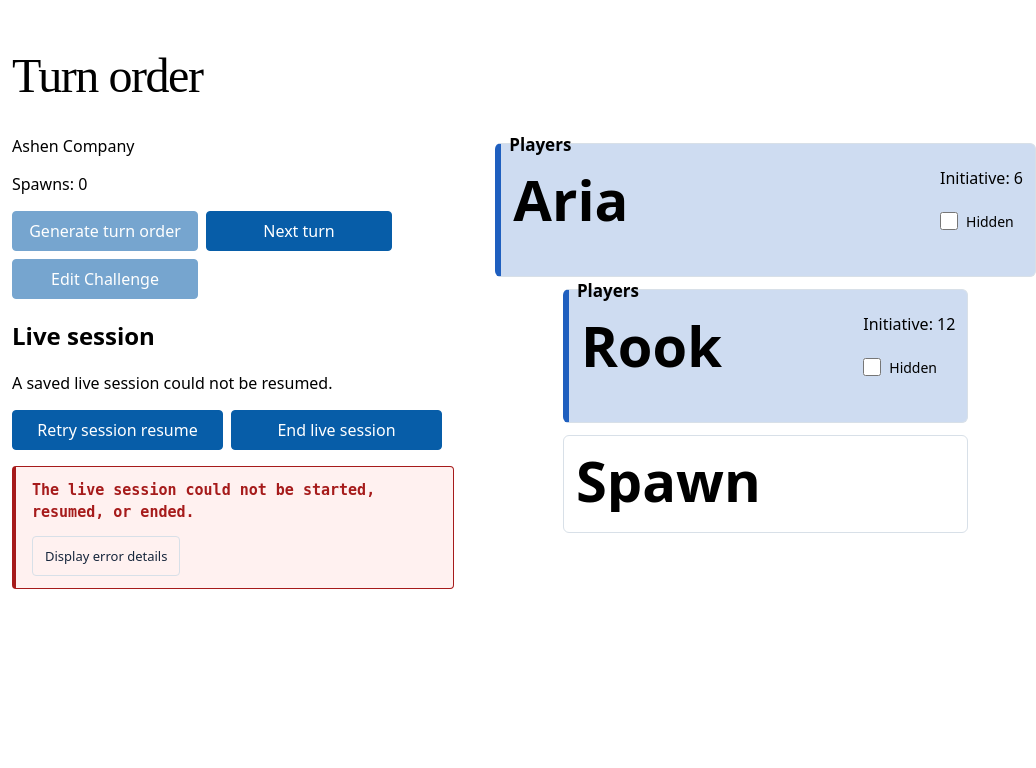
Scenario: turn-order run route › keeps reconnect details after a temporary resume failure and retries
Click the button "Retry session resume": [118, 430] box [12,410,223,450]
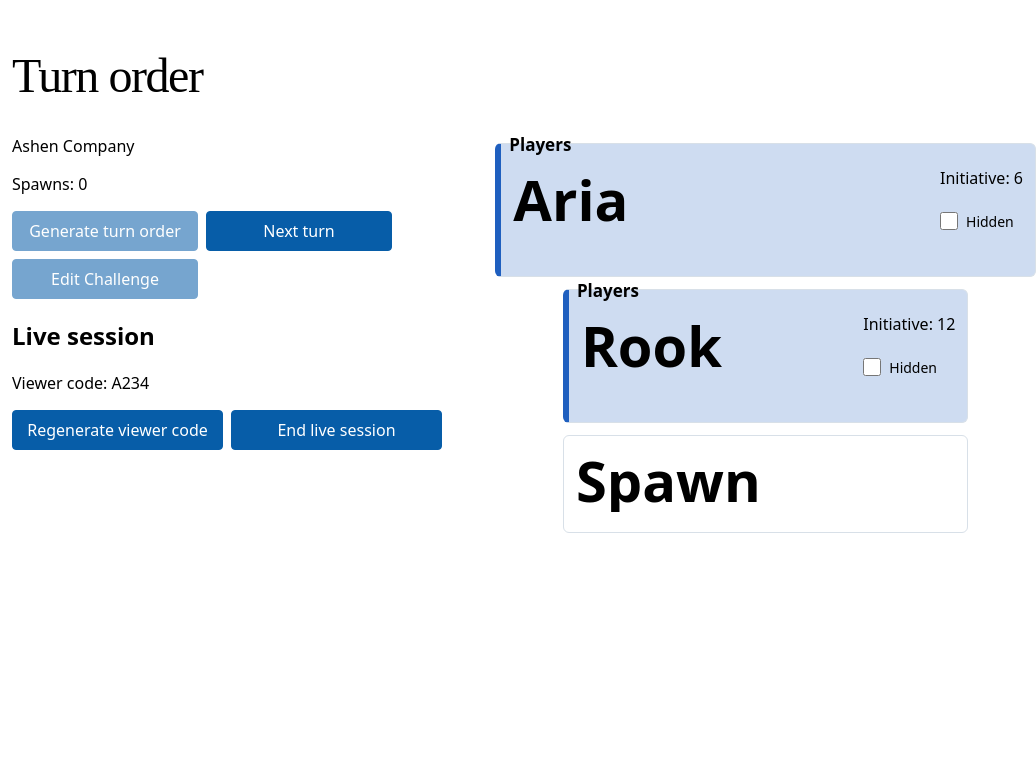
Result: the text "A234" is shown at [112,372,149,394]
